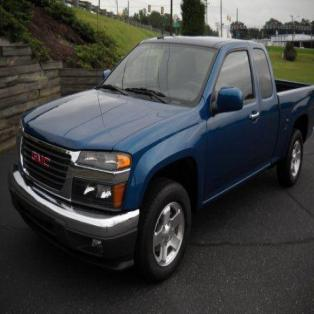Auto: (12, 31, 314, 275)
